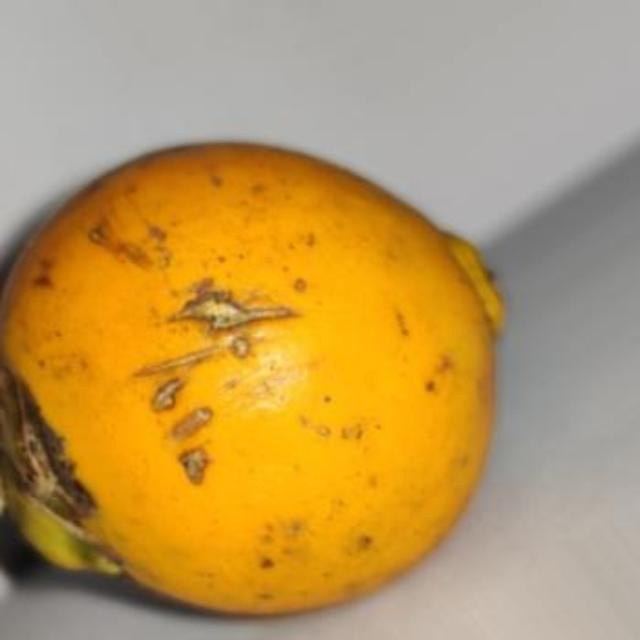good: (0, 144, 505, 618)
